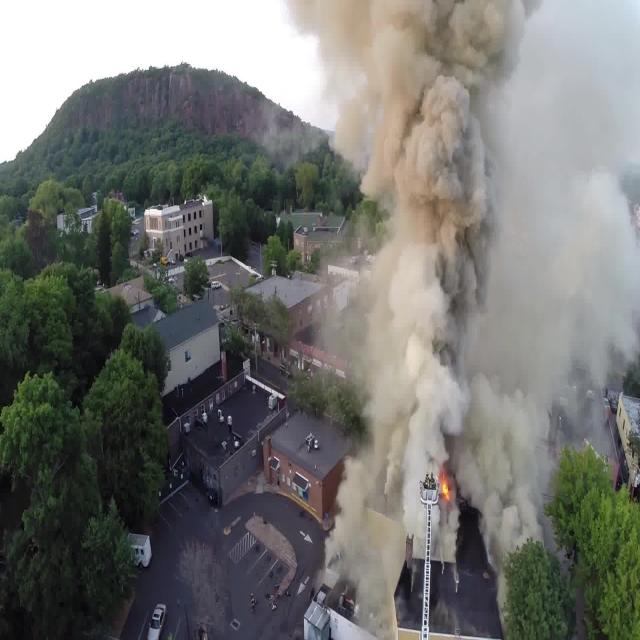smoke: (360, 1, 640, 389), (362, 405, 546, 536)
